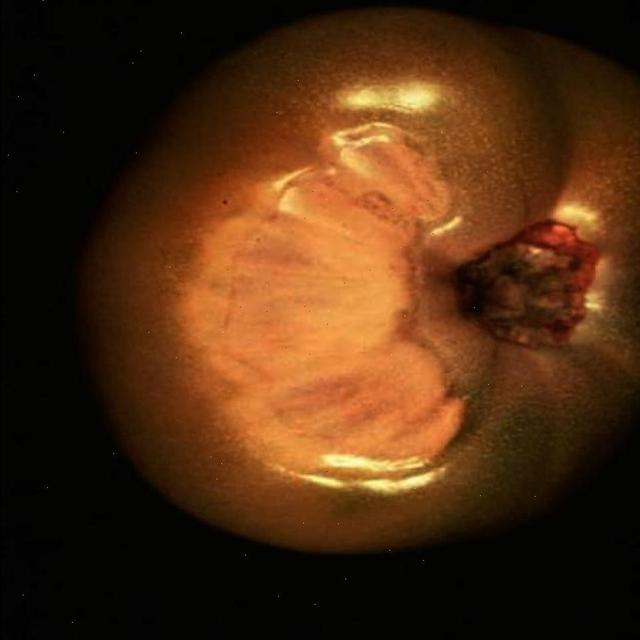Sunscald Fruit: (0, 79, 251, 299)
